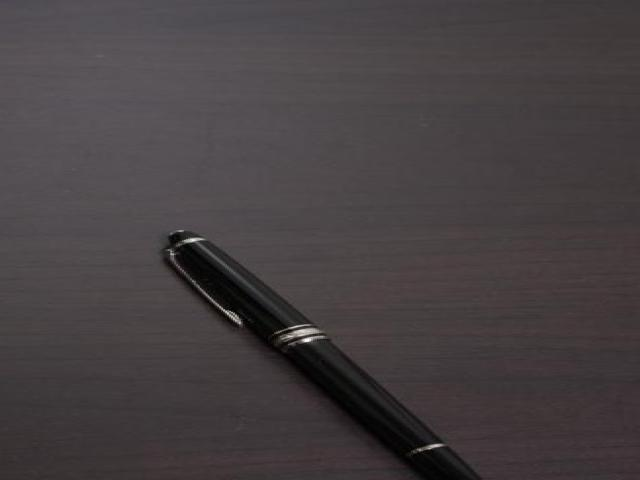PEN: (131, 187, 503, 480)
